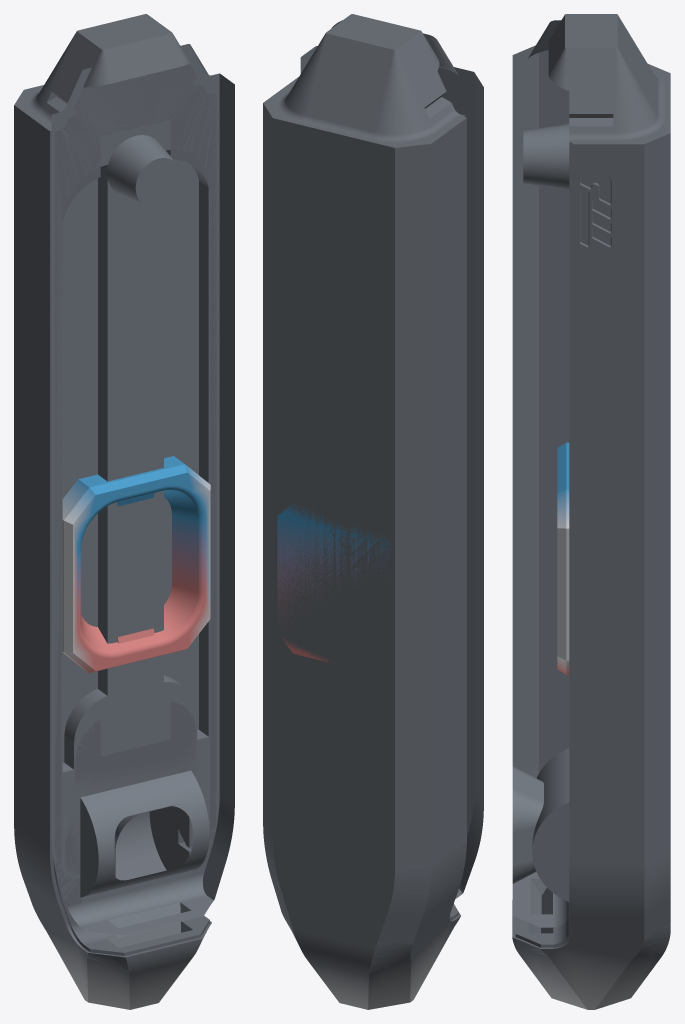
Rendered from cad-mpi-pen-assembled.glb.
3 renders of one model, left to right at view 1: azimuth 30°, elevation 25°; view 2: azimuth 150°, elevation 25°; view 3: azimuth 270°, elevation 25°, orthographic.
Visible parts, largest first — view 1: upper_cover, lower_casing, rotor_indicator; view 2: lower_casing, upper_cover, rotor_indicator; view 3: lower_casing, upper_cover, rotor_indicator.
Boxes of the visible parts, box(x1,y1,x2,y2) form: upper_cover: box(51, 44, 234, 937); lower_casing: box(14, 14, 216, 1009); rotor_indicator: box(62, 456, 210, 672); lower_casing: box(263, 14, 466, 1009); upper_cover: box(300, 20, 483, 898); rotor_indicator: box(277, 504, 390, 663); lower_casing: box(512, 14, 670, 1009); upper_cover: box(512, 20, 569, 927); rotor_indicator: box(557, 442, 569, 674).
Size of the model in its own units: 22 by 120 by 17.96.
